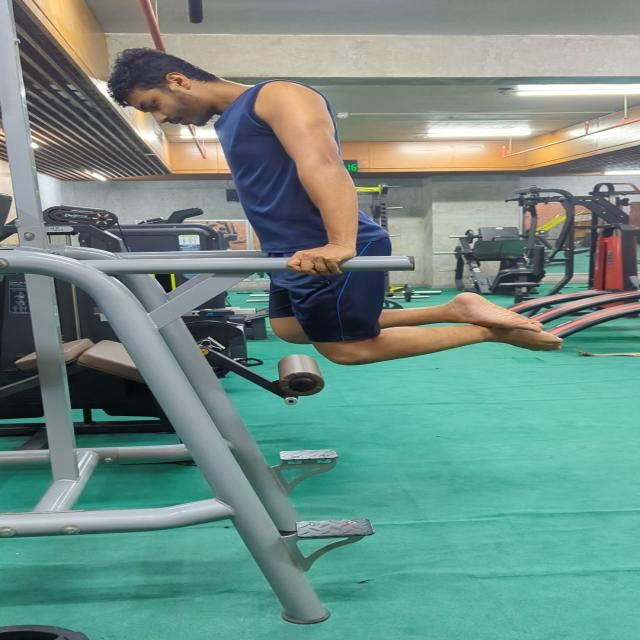Normal_Dips: (98, 37, 572, 375)
